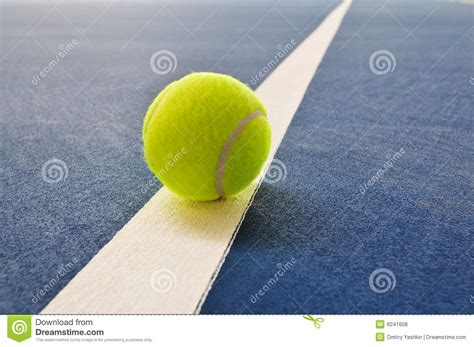tennis_ball: (142, 72, 271, 201)
